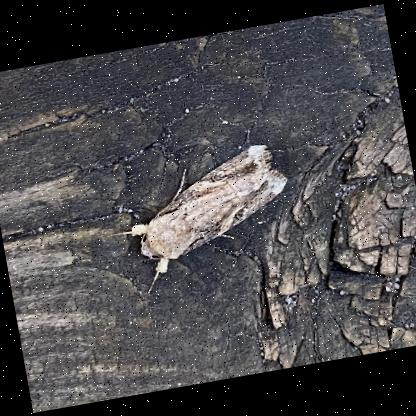Fall Armyworm Moth: (93, 136, 306, 301)
